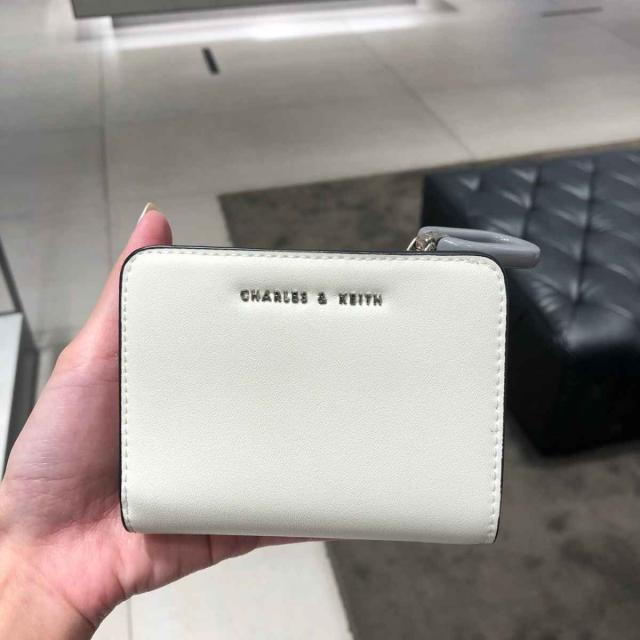bag: (102, 224, 521, 566)
